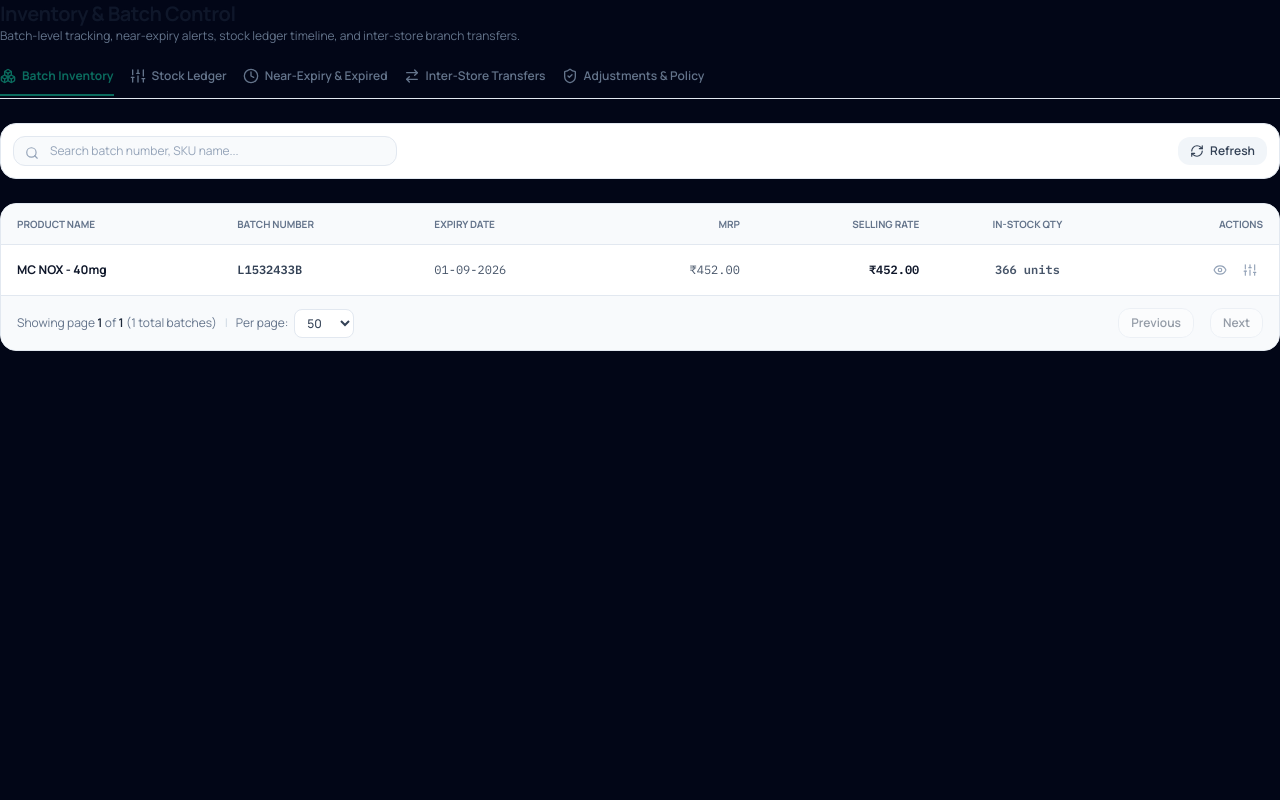
Test case: Inventory row actions › lists stock movements and opens the one under the cursor
The image size is (1280, 800).
What coordinates should you click on to do the following:
click the button "Stock Ledger"
I would click on:
 (178, 82)
Its box is x1=130 y1=68 x2=227 y2=96.
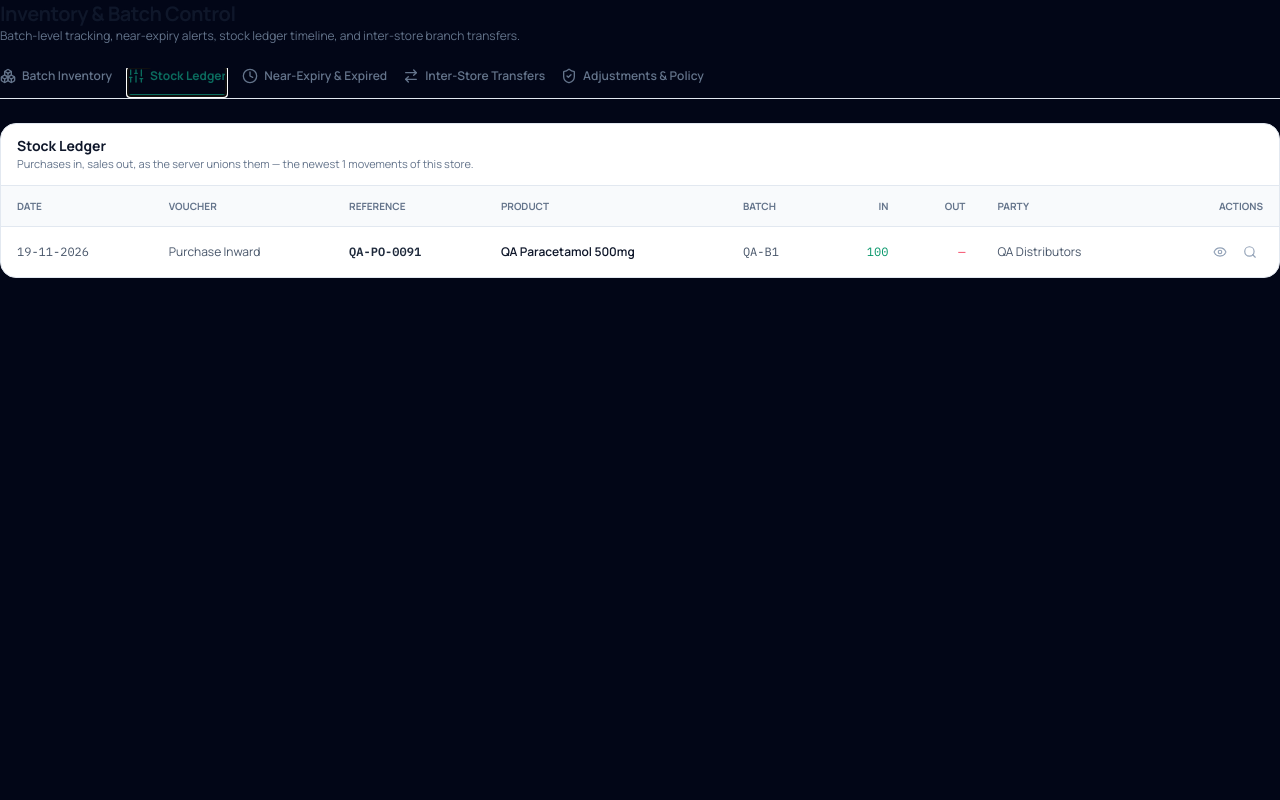
What coordinates should you click on to do the following:
click the button titled "View this movement"
I would click on:
 (1220, 252)
Its box is x1=1207 y1=238 x2=1233 y2=264.
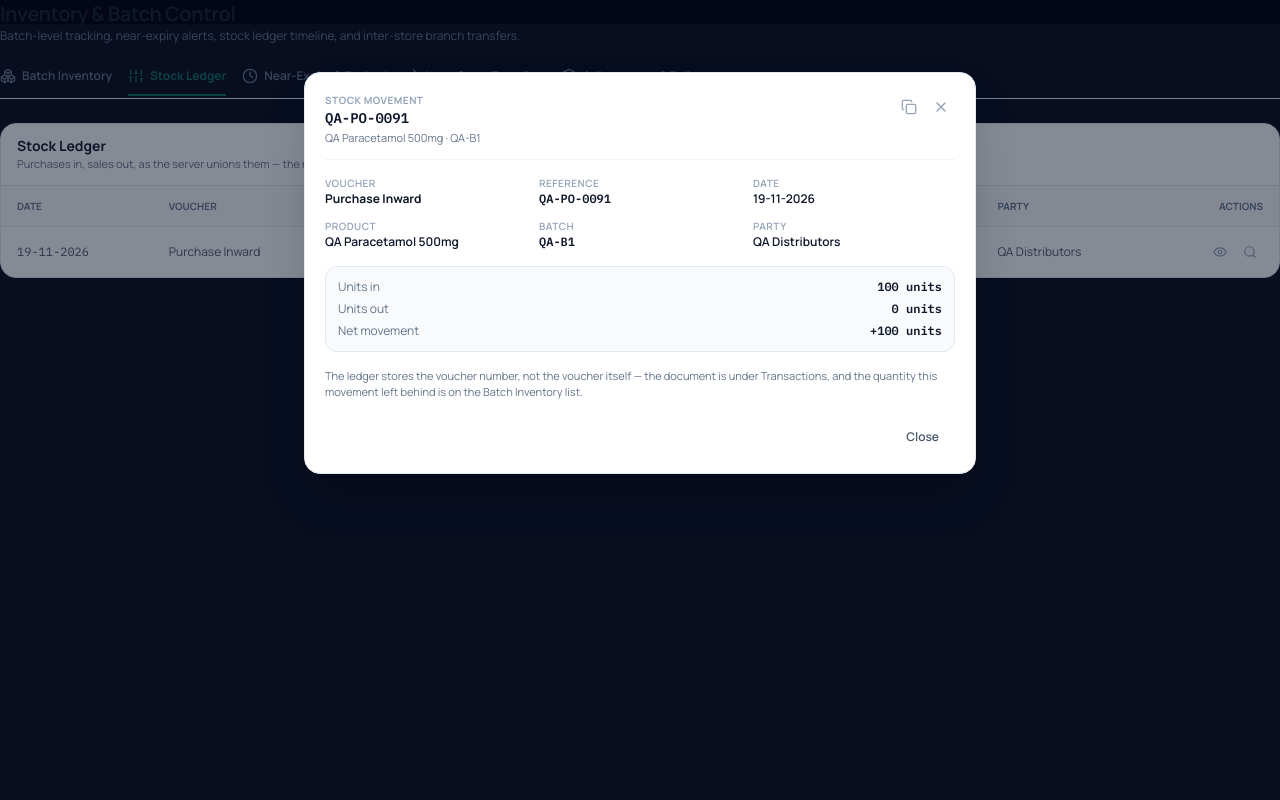
Now the text "QA Distributors" is shown, box x1=753 y1=232 x2=840 y2=250
Now the text "Units in" is shown, box x1=338 y1=278 x2=380 y2=294
